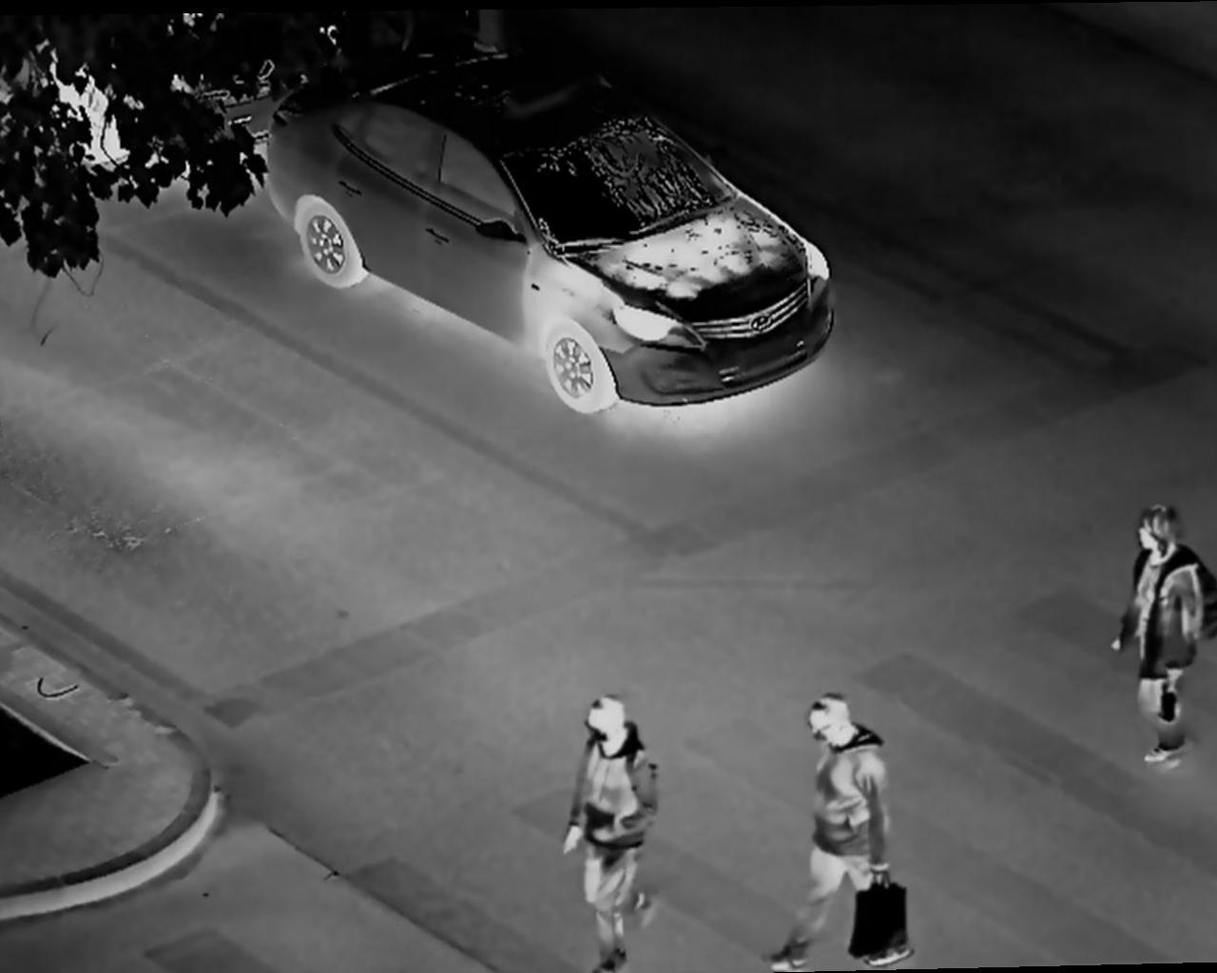person: (784, 684, 925, 973), (560, 690, 667, 963), (1123, 497, 1217, 773)
